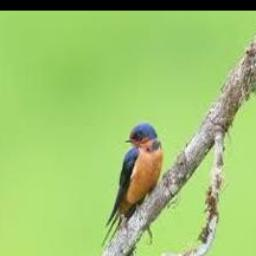Swallow: (102, 123, 164, 250)
